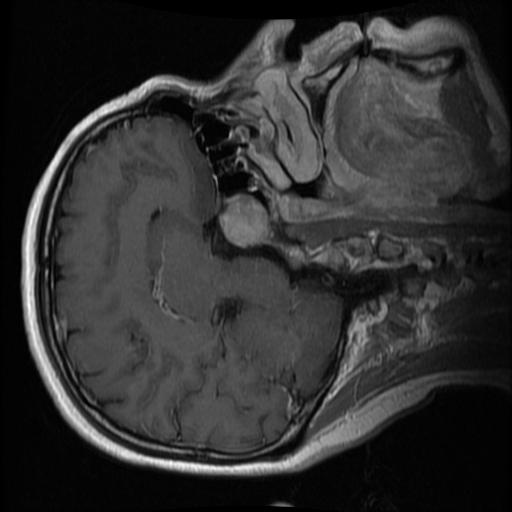pituitary tumour: (222, 196, 265, 245)
